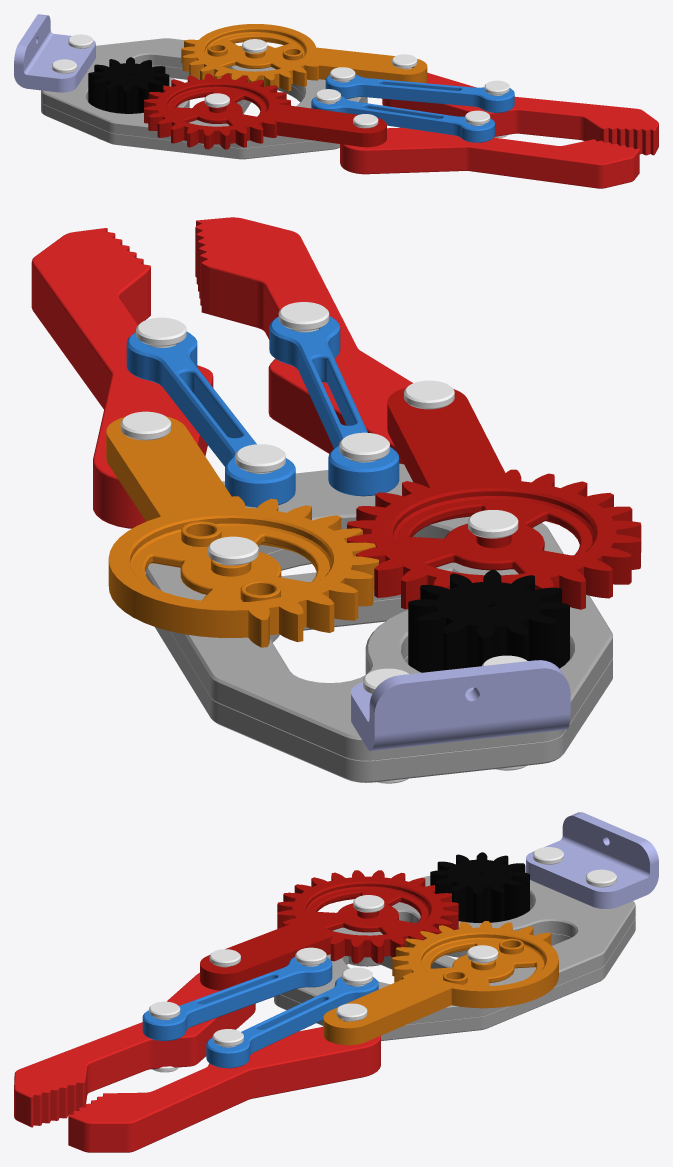
Rendered from RobotGripper4.glb.
3 views of the same model, one above another, from view 1: azimuth 30°, elevation 25°; view 2: azimuth 150°, elevation 25°; view 3: azimuth 270°, elevation 25° (orthographic). The views are drawn at different scales.
Visible parts, largest first — view 1: Gripper, GearlinkRed, GearlinkOrange, Gripper2, Plate, Mountingbracket, Plate2, Link2, Gear, Link, pin.009, pin.005 (+8 smaller); view 2: GearlinkOrange, GearlinkRed, Plate, Gripper2, Gripper, Mountingbracket, Gear, Plate2, Link2, Link, pin.008, pin.009 (+6 smaller); view 3: Gripper2, GearlinkOrange, GearlinkRed, Gripper, Plate, Mountingbracket, Gear, Link, Plate2, Link2, pin.008, pin.004.
Part boxes in pixels (x1,y1,x2,y2): Gripper: (340,127,639,188); GearlinkRed: (144,73,386,149); GearlinkOrange: (181,24,427,91); Gripper2: (382,72,658,155); Plate: (41,38,367,148); Mountingbracket: (14,14,95,92); Plate2: (41,65,367,159); Link2: (325,74,514,112); Gear: (88,57,169,138); Link: (311,96,494,142); pin.009: (484,80,509,137); pin.005: (330,67,355,82); GearlinkOrange: (106,416,378,647); GearlinkRed: (347,388,641,609); Plate: (145,463,612,760); Gripper2: (31,228,213,528); Gripper: (195,217,412,464); Mountingbracket: (351,660,570,750); Gear: (408,570,569,672); Plate2: (155,548,612,782); Link2: (126,332,295,507); Link: (269,316,399,496); pin.008: (278,302,329,332); pin.009: (136,317,186,347); Gripper2: (68,1027,380,1152); GearlinkOrange: (323,921,558,1045); GearlinkRed: (200,870,458,990); Gripper: (14,972,255,1127); Plate: (281,865,635,1024); Mountingbracket: (526,812,658,908); Gear: (430,852,529,922); Link: (142,957,332,1040); Plate2: (274,905,635,1040); Link2: (206,976,378,1068); pin.008: (149,1001,180,1072); pin.004: (295,947,326,966).
Bounding box in the file's own units: 0.1024 × 0.0148 × 0.1035.
